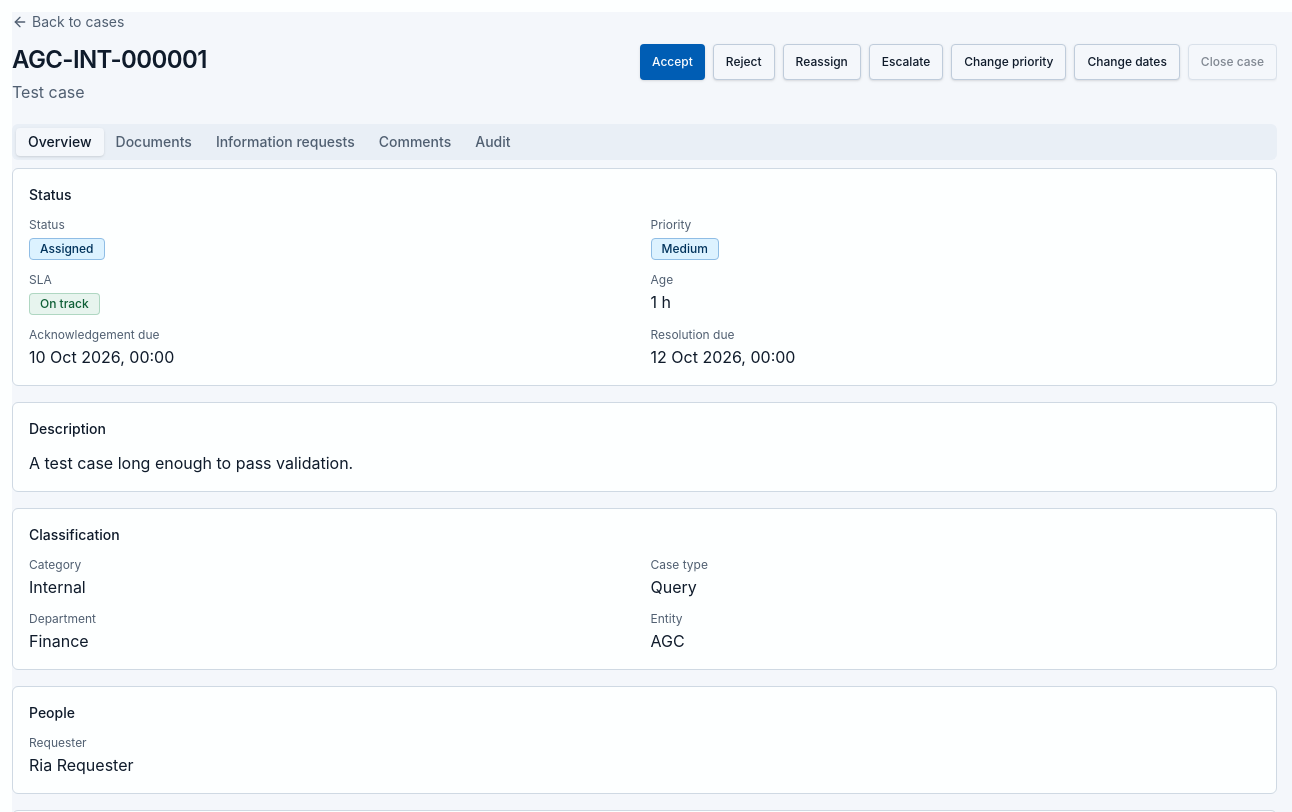
CaseDetailPage › a legal manager holding a case sees Accept/Reject disappear once they accept it
Expected: the button "Reject" is shown, [713,44,775,80]
Click the button "Accept".
click(672, 62)  # box [640,44,705,80]
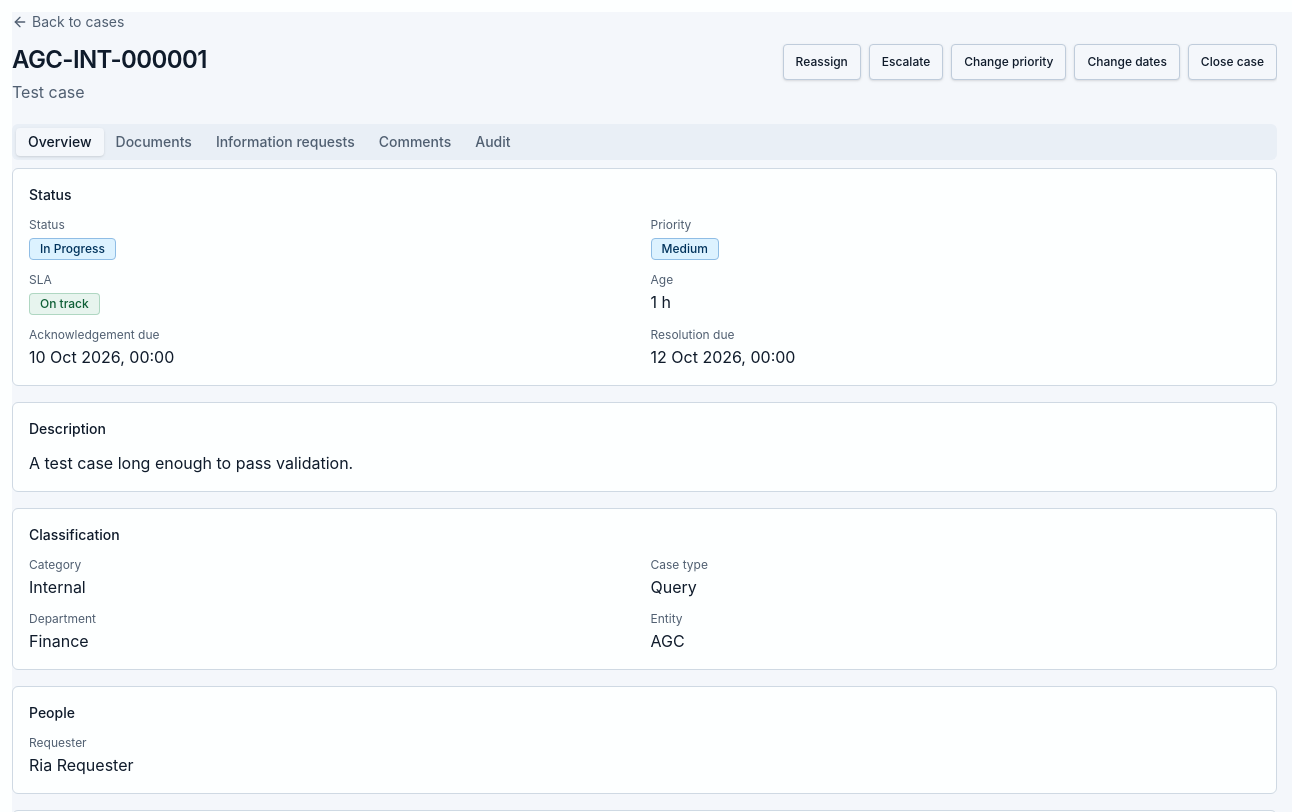
Expected: the button "Accept" is gone
Expected: the button "Reject" is gone
